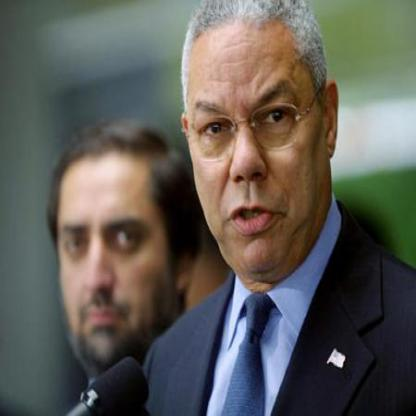face: (183, 1, 329, 279), (49, 133, 180, 378)
